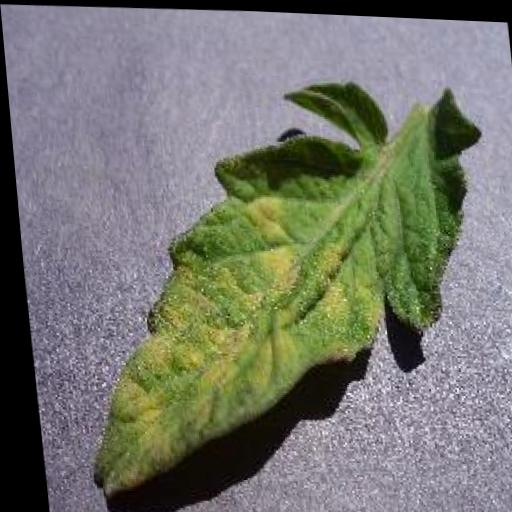Leaf Mold: (47, 58, 512, 512)
